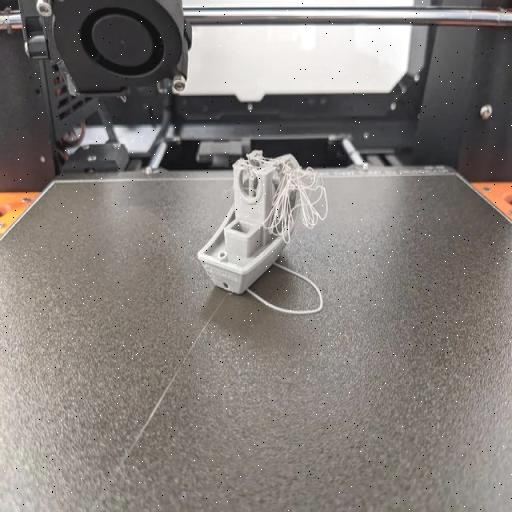spaghetti: (270, 166, 328, 240)
